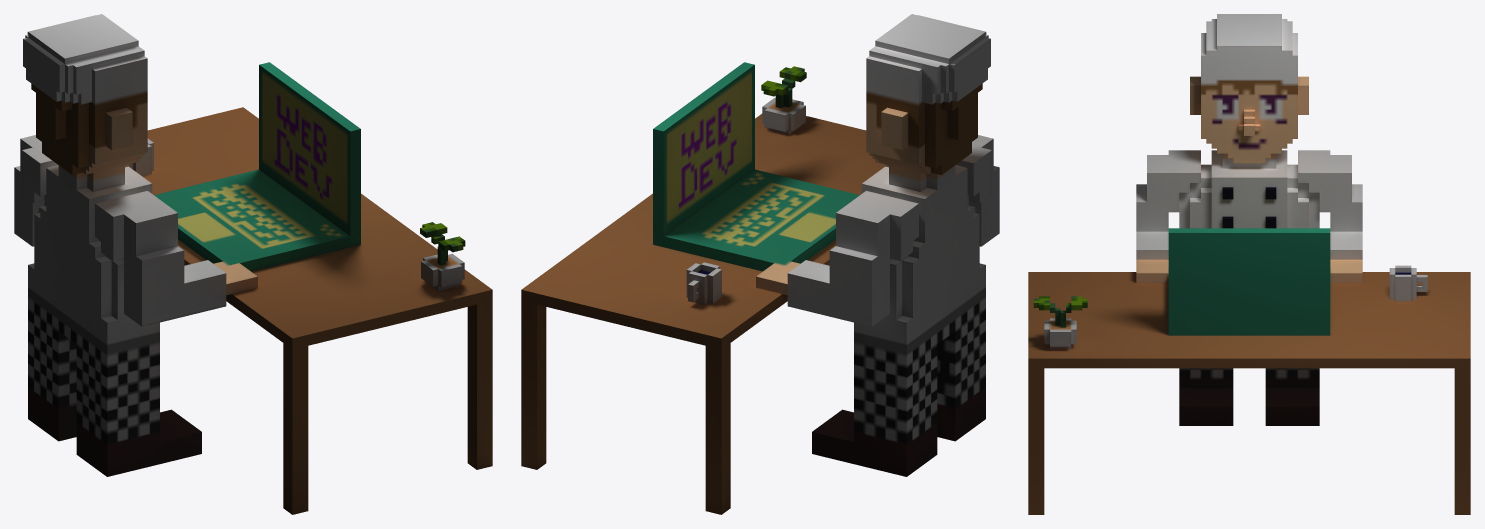
Rendered from baked-chef.glb.
3 views of the same model, side by side, from view 1: azimuth 30°, elevation 25°; view 2: azimuth 150°, elevation 25°; view 3: azimuth 270°, elevation 25° (orthographic). The views are drawn at different scales.
Parts seen in each view (by area): view 1: chef; view 2: chef; view 3: chef.
Part boxes in pixels (x1,y1,x2,y2): chef: (14,14,492,514); chef: (521,14,999,514); chef: (1028,14,1470,514).
Size of what is drawn, in the model's own units: 6.2 by 7.4 by 8.2.
Materials: 1 (1 with a texture image).
